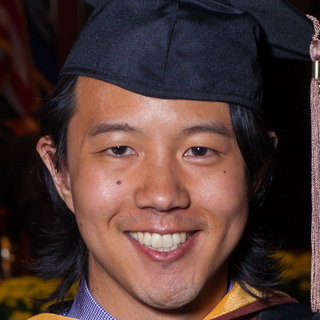eye: (95, 139, 142, 164), (177, 140, 223, 164)
